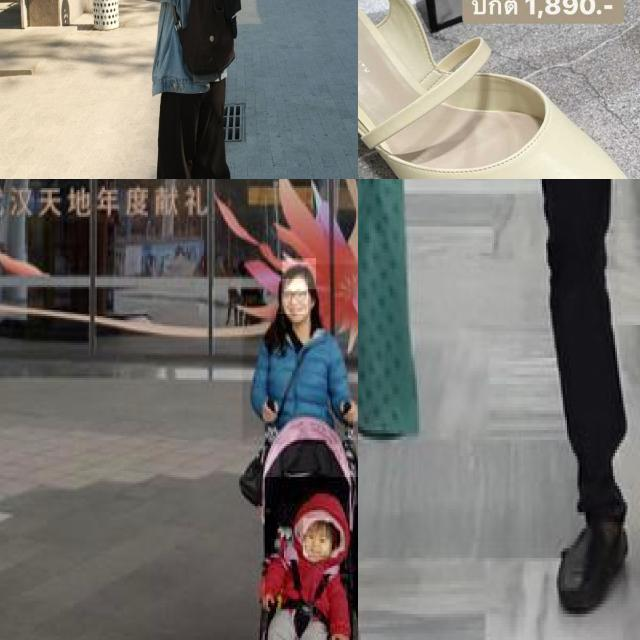Sandals: (358, 0, 640, 179), (358, 75, 637, 179)
face_nomask: (280, 279, 310, 316), (303, 518, 329, 556)
hand_noglove: (254, 390, 286, 434), (333, 391, 358, 434)
head_nohelmet: (282, 258, 318, 291)
person: (242, 264, 358, 445), (264, 477, 358, 640)
